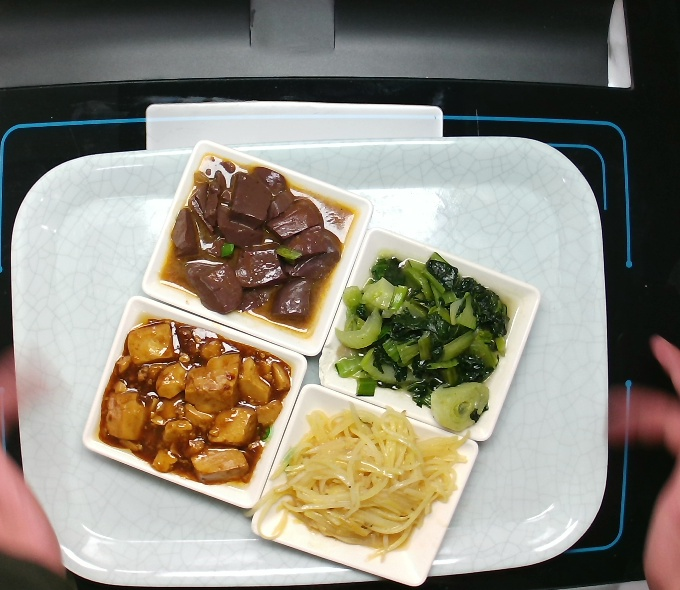wcq-MaPoDouFu: (106, 307, 272, 494)
wcq-NiuXue: (170, 146, 336, 333)
wcq-TuDouSi: (275, 387, 441, 574)
wcq-YouDongCai: (340, 241, 506, 428)
